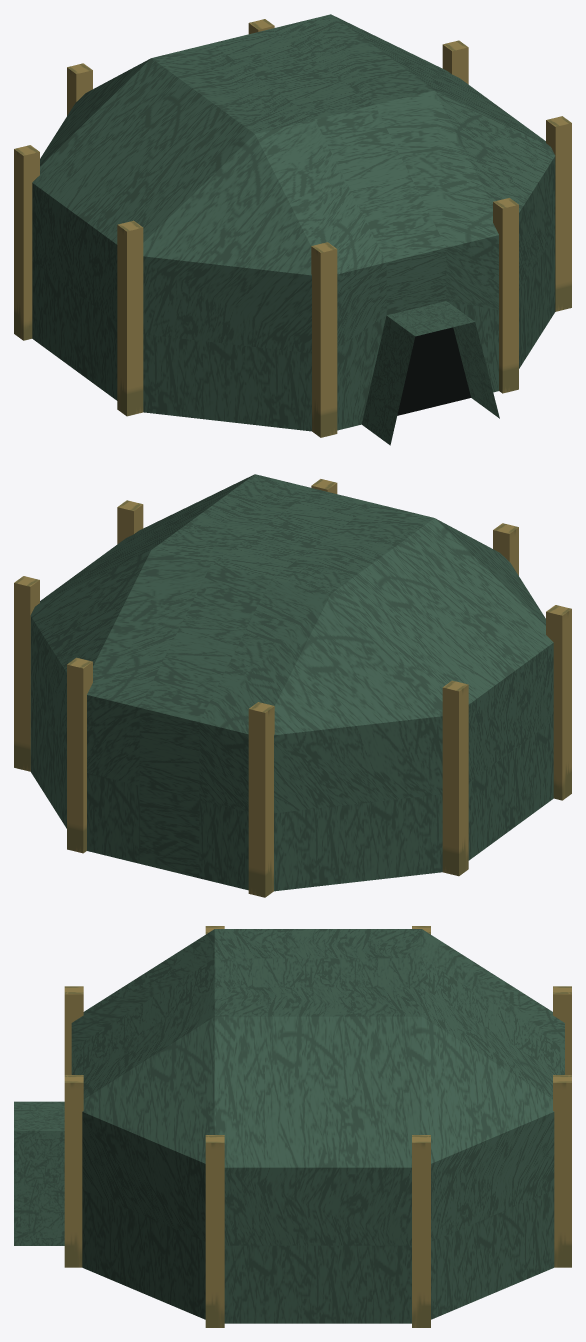
The model's file is TentBig.fbx.
3 renders of one model, top to bottom at view 1: azimuth 30°, elevation 25°; view 2: azimuth 150°, elevation 25°; view 3: azimuth 270°, elevation 25°, orthographic.
Visible parts, largest first — view 1: Cube.016, Cube.017; view 2: Cube.016, Cube.017; view 3: Cube.016, Cube.017.
Boxes of the visible parts, x1,y1,x2,y2 form: Cube.016: (32, 14, 555, 445); Cube.017: (14, 19, 571, 437); Cube.016: (30, 474, 553, 891); Cube.017: (14, 479, 571, 897); Cube.016: (14, 929, 564, 1323); Cube.017: (64, 926, 571, 1327).
Size of the model in its own units: 10.66 by 5.65 by 11.59.
